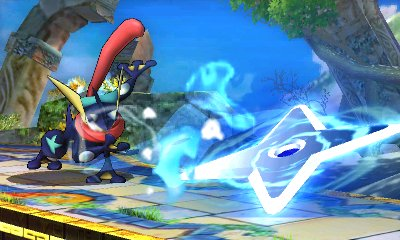greninja: (27, 16, 164, 192)
